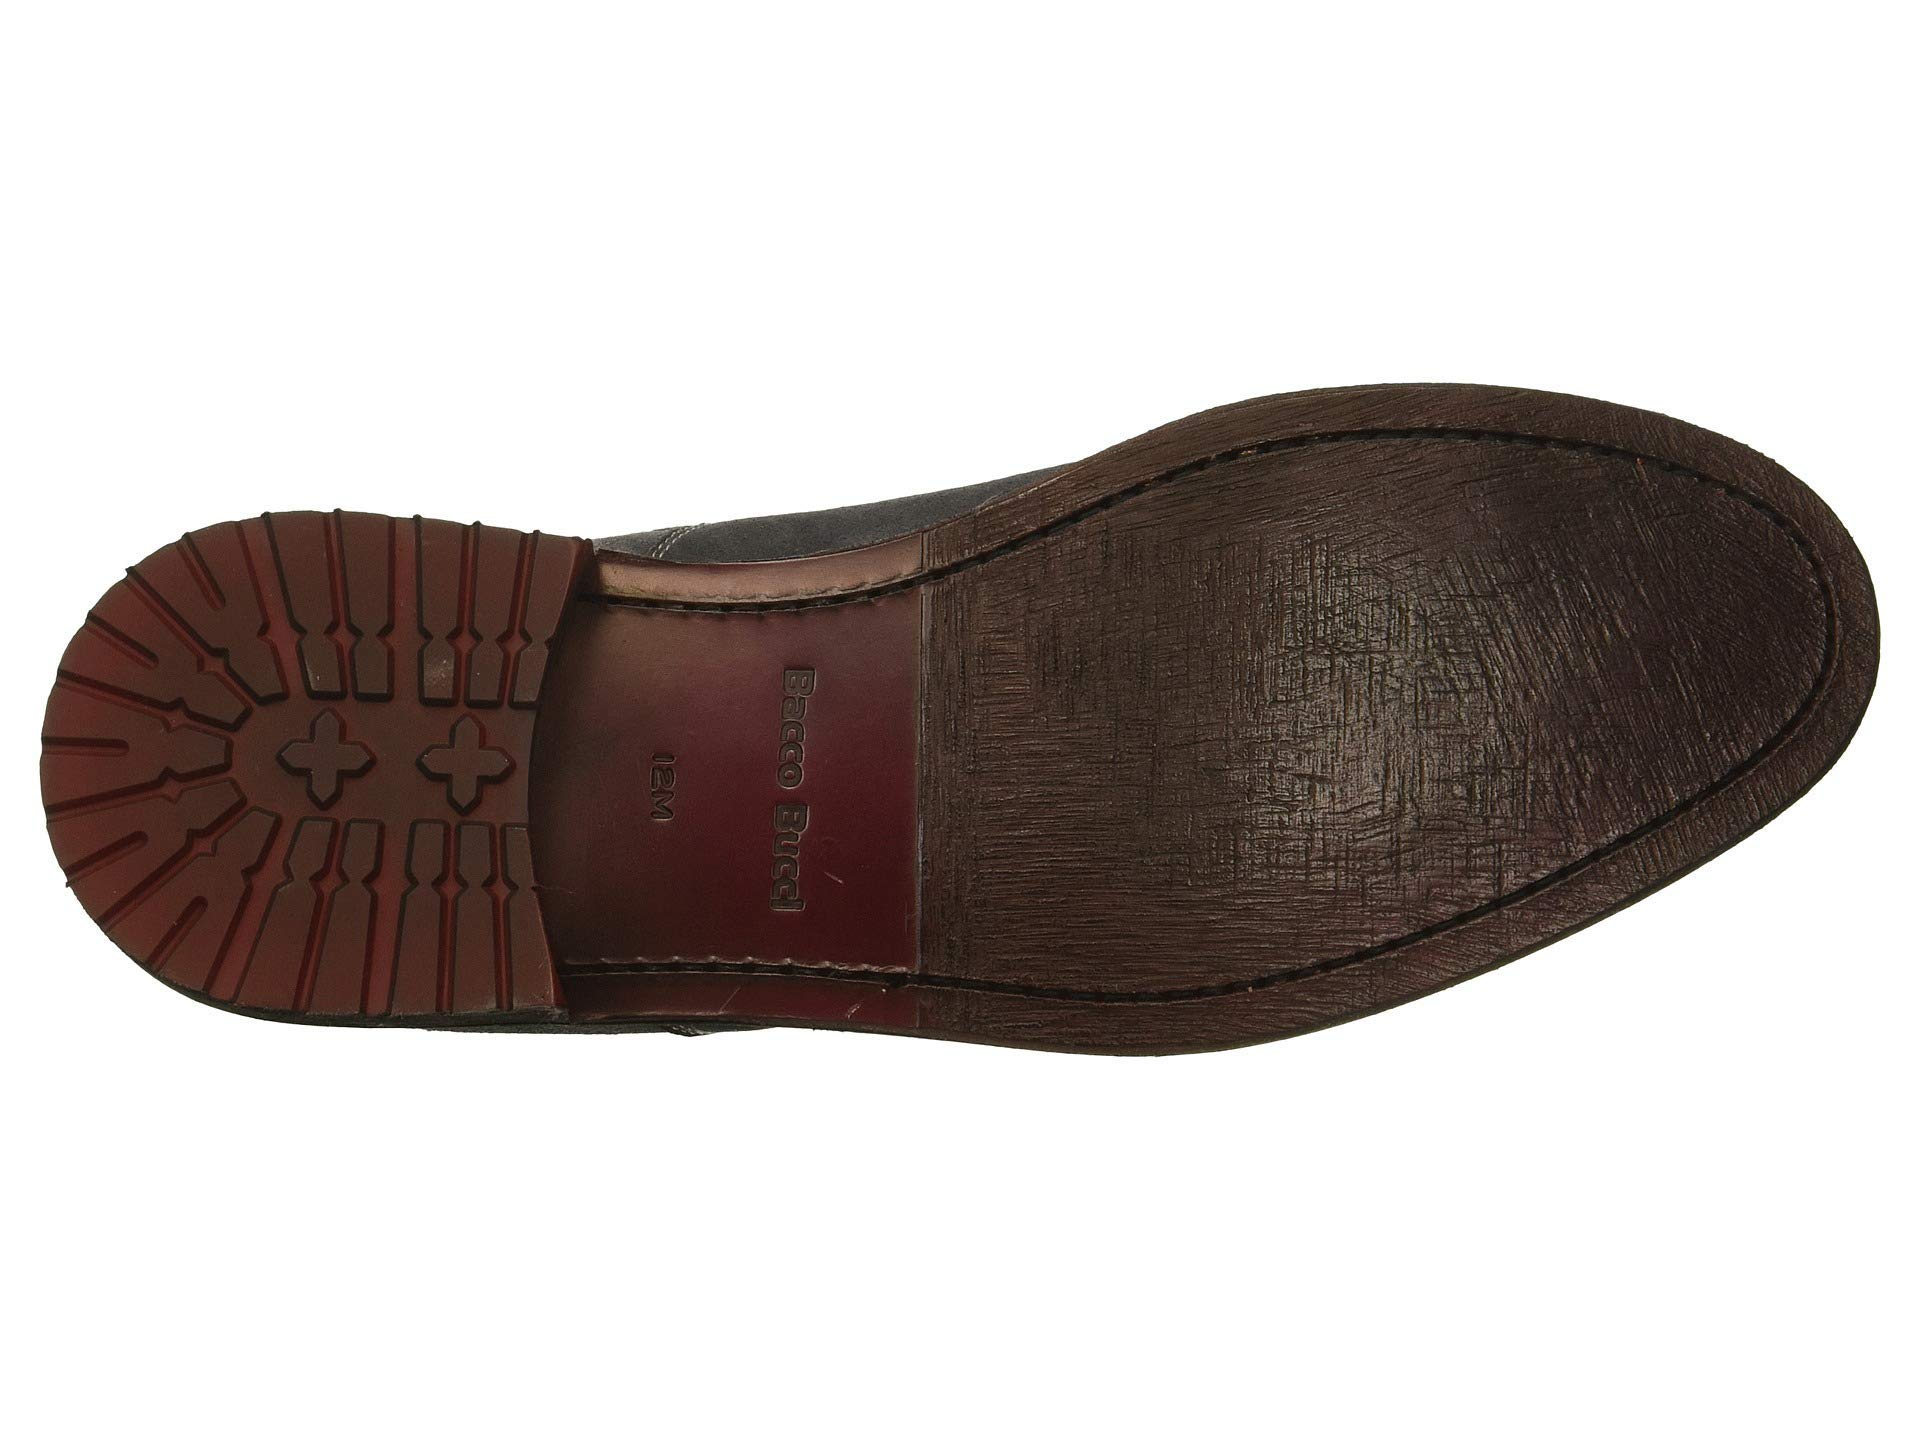circle: (600, 640, 884, 936)
line: (1243, 393, 1788, 532)
other: (1113, 614, 1457, 839), (153, 523, 534, 681)
star: (255, 705, 534, 808)
text: (600, 640, 884, 936)
